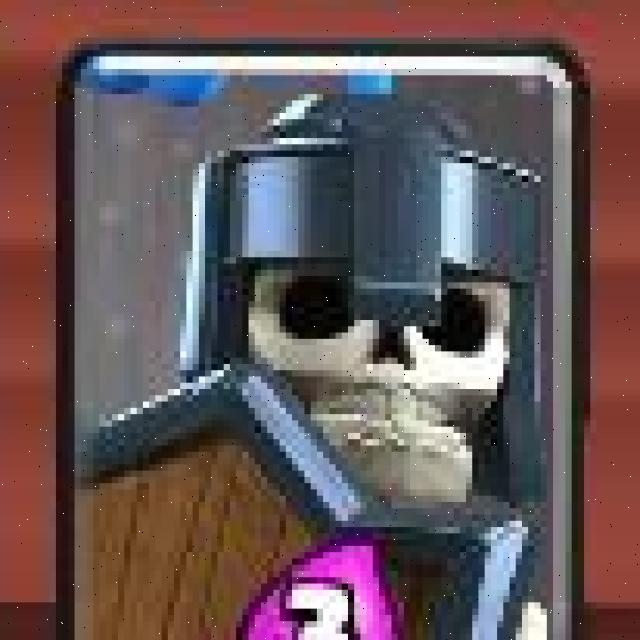Guards: (59, 41, 590, 640)
